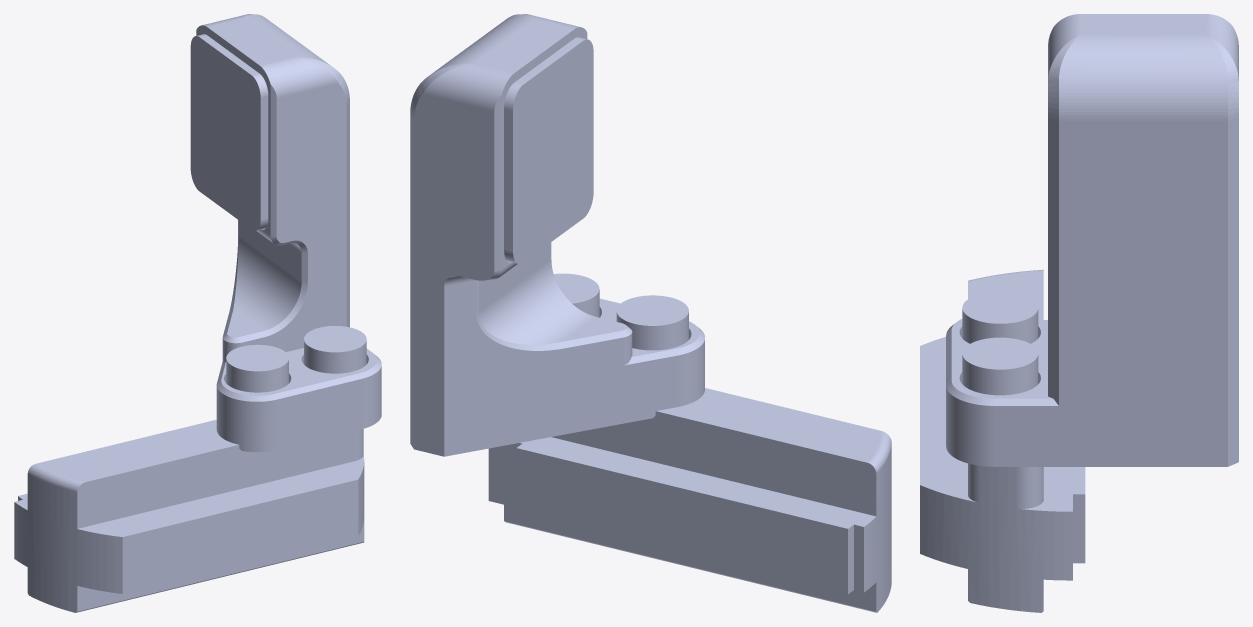
Rendered from g_left.dae.
The picture shows the model from 3 angles, left to right: view 1: azimuth 30°, elevation 25°; view 2: azimuth 150°, elevation 25°; view 3: azimuth 270°, elevation 25°; orthographic projection. The views are drawn at different scales.
Parts seen in each view (by area): view 1: node0; view 2: node0; view 3: node0.
Boxes of the visible parts, bbox=[...] form: node0: bbox=[14, 14, 381, 612]; node0: bbox=[410, 14, 891, 612]; node0: bbox=[920, 14, 1238, 612].
Size of the model in its own units: 0.0425 by 0.0294 by 0.0564.
